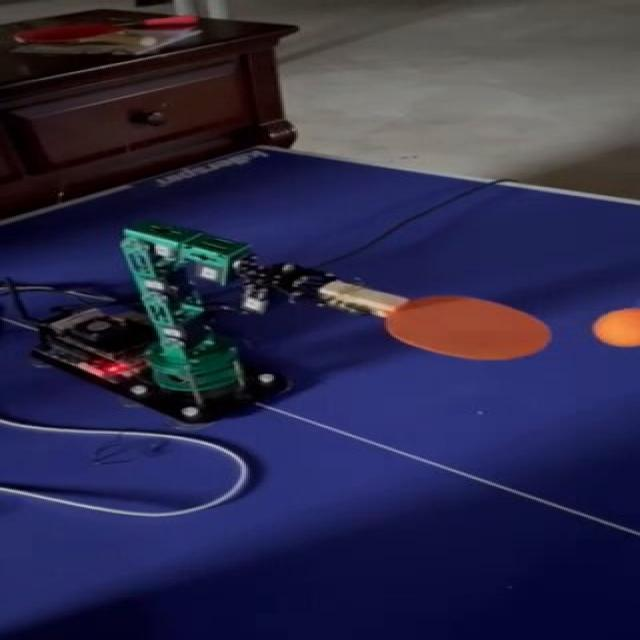ping-pong-ball: (596, 311, 638, 347)
